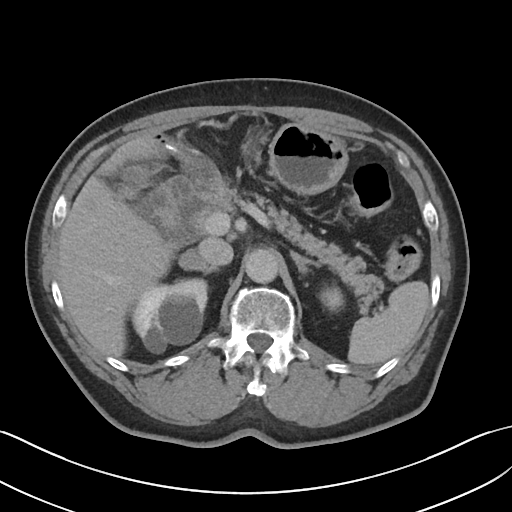Lesion: (141, 323, 170, 359)
